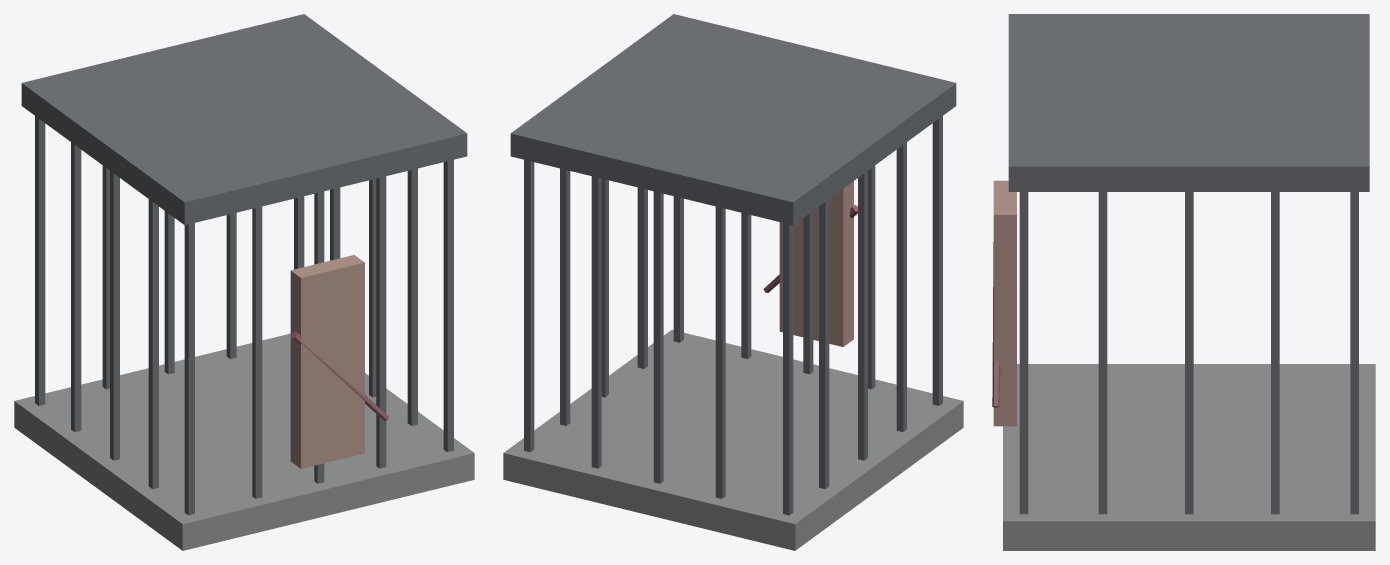
The model's file is rusted_prison_cage.glb.
The picture shows the model from 3 angles, left to right: view 1: azimuth 30°, elevation 25°; view 2: azimuth 150°, elevation 25°; view 3: azimuth 270°, elevation 25°; orthographic projection. The views are drawn at different scales.
Visible parts, largest first — view 1: rusted_prison_cage_material_01, rusted_prison_cage_material_00, rusted_prison_cage_material_02; view 2: rusted_prison_cage_material_01, rusted_prison_cage_material_00, rusted_prison_cage_material_02; view 3: rusted_prison_cage_material_01, rusted_prison_cage_material_00, rusted_prison_cage_material_02, rusted_prison_cage_material_03.
Part boxes in pixels (x1,y1,x2,y2): rusted_prison_cage_material_01: [21, 14, 467, 515]; rusted_prison_cage_material_00: [14, 333, 474, 550]; rusted_prison_cage_material_02: [290, 255, 364, 468]; rusted_prison_cage_material_01: [510, 14, 956, 515]; rusted_prison_cage_material_00: [503, 330, 963, 550]; rusted_prison_cage_material_02: [779, 181, 853, 346]; rusted_prison_cage_material_01: [1008, 14, 1369, 514]; rusted_prison_cage_material_00: [1003, 364, 1375, 550]; rusted_prison_cage_material_02: [993, 180, 1016, 426]; rusted_prison_cage_material_03: [992, 242, 1000, 407].
Bounding box in the file's own units: 1.6 × 1.81 × 1.65.
